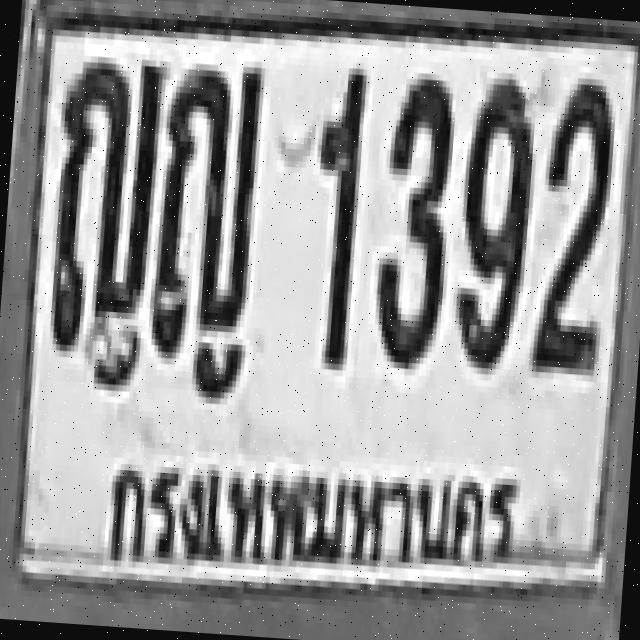1: (303, 64, 367, 368)
2: (530, 73, 616, 373)
22YorYing: (145, 55, 263, 357), (45, 54, 163, 356)
3: (368, 70, 454, 364)
9: (448, 70, 538, 370)
